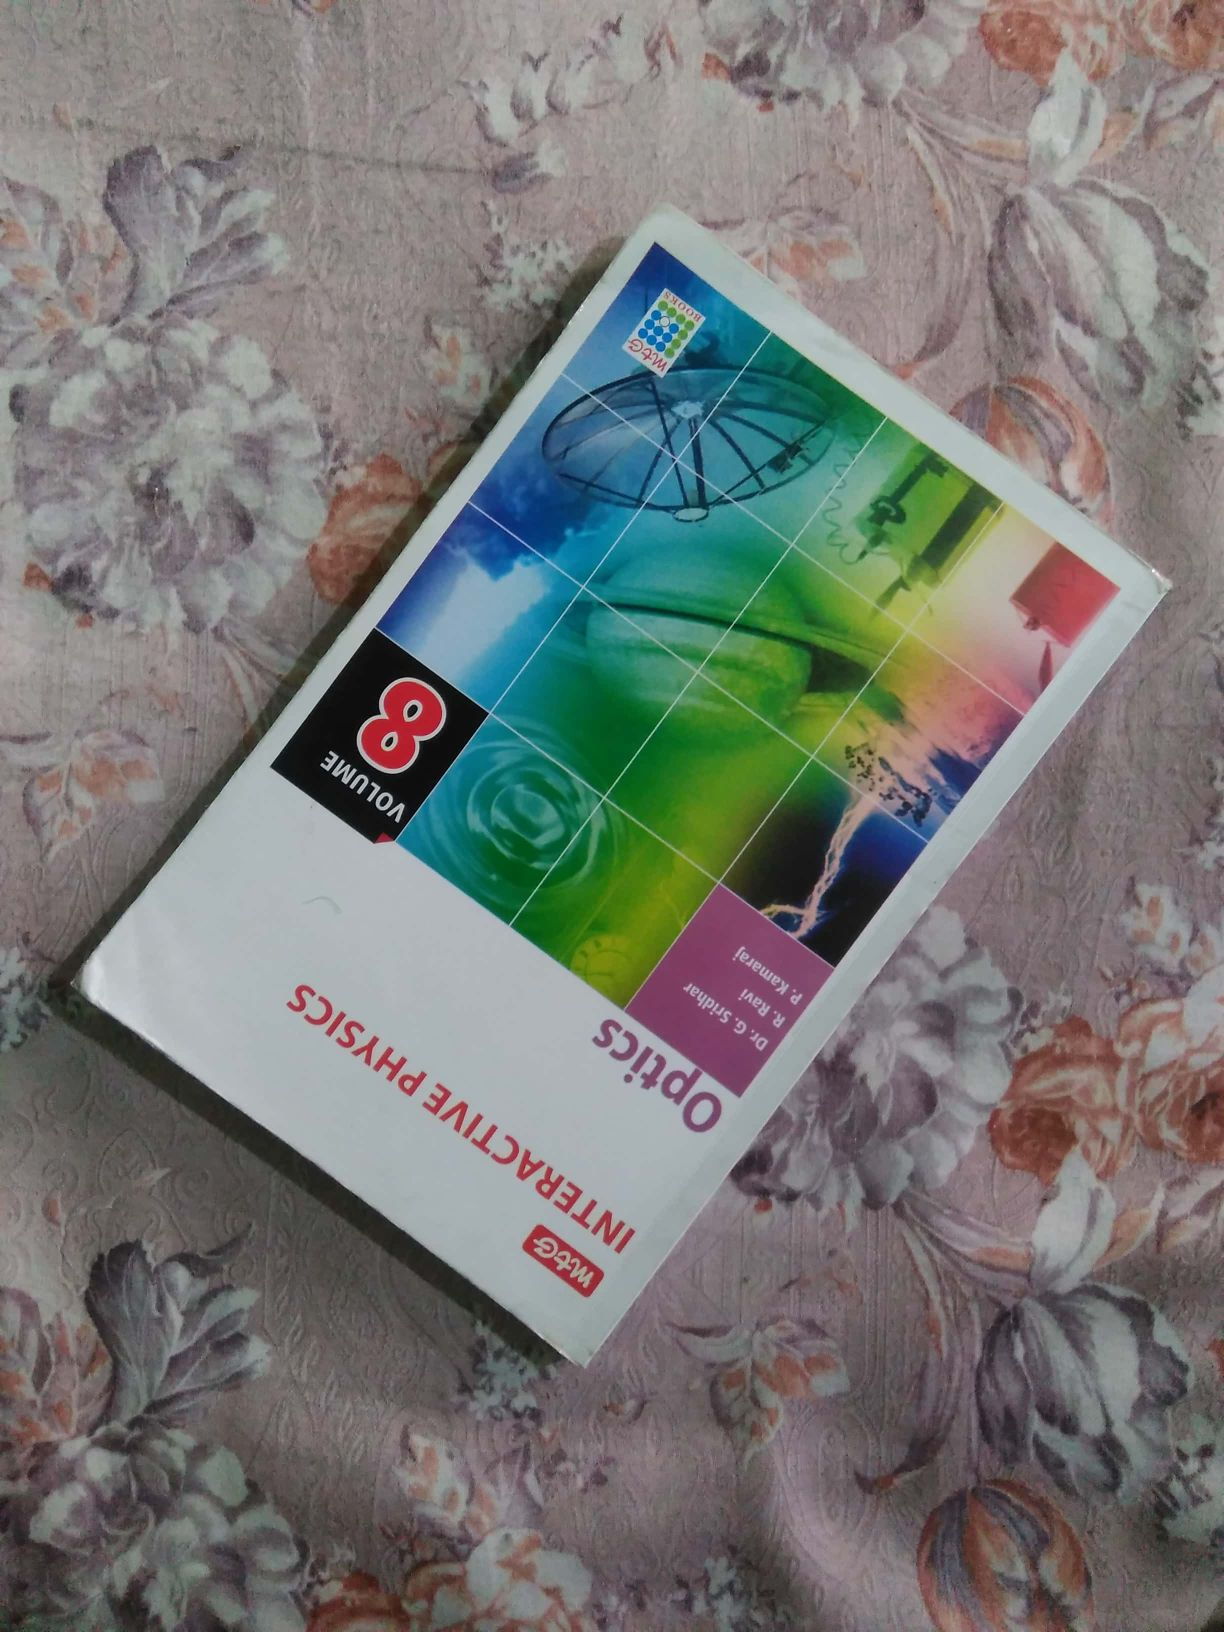optics: (114, 239, 1110, 1358)
